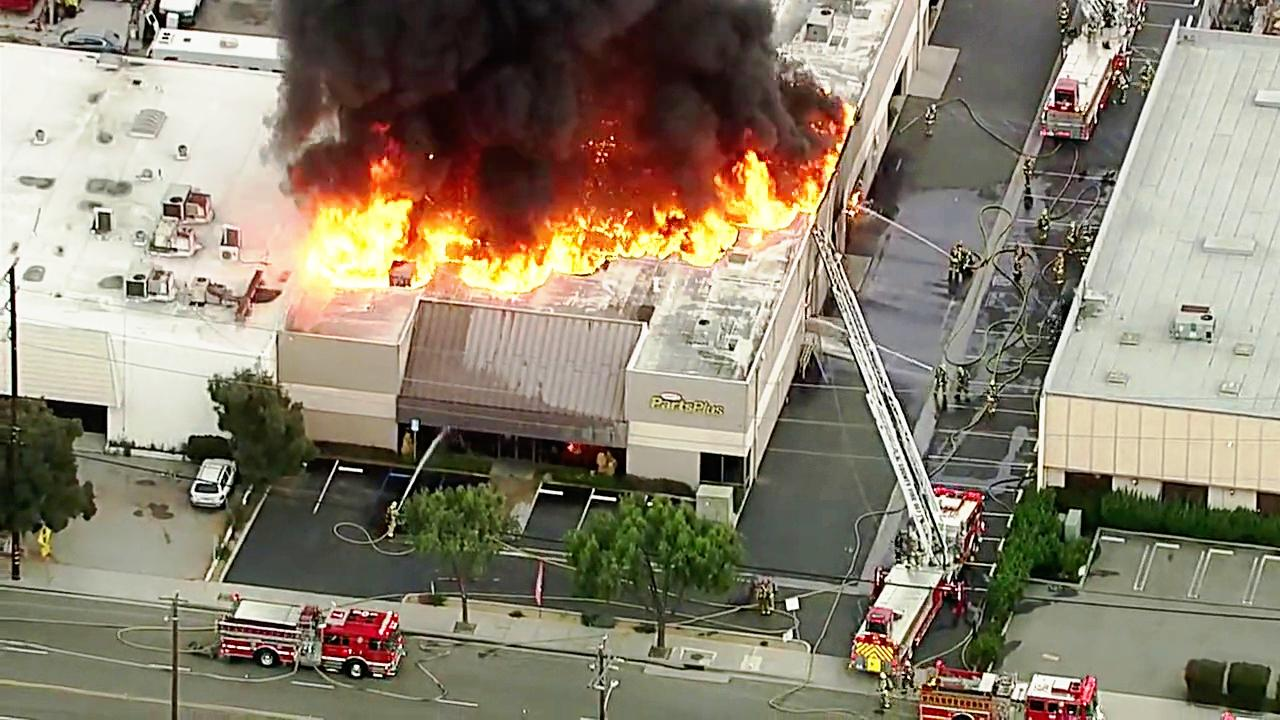fire: (294, 184, 409, 304), (699, 152, 794, 235), (449, 237, 575, 295)
smoke: (267, 0, 806, 130)
